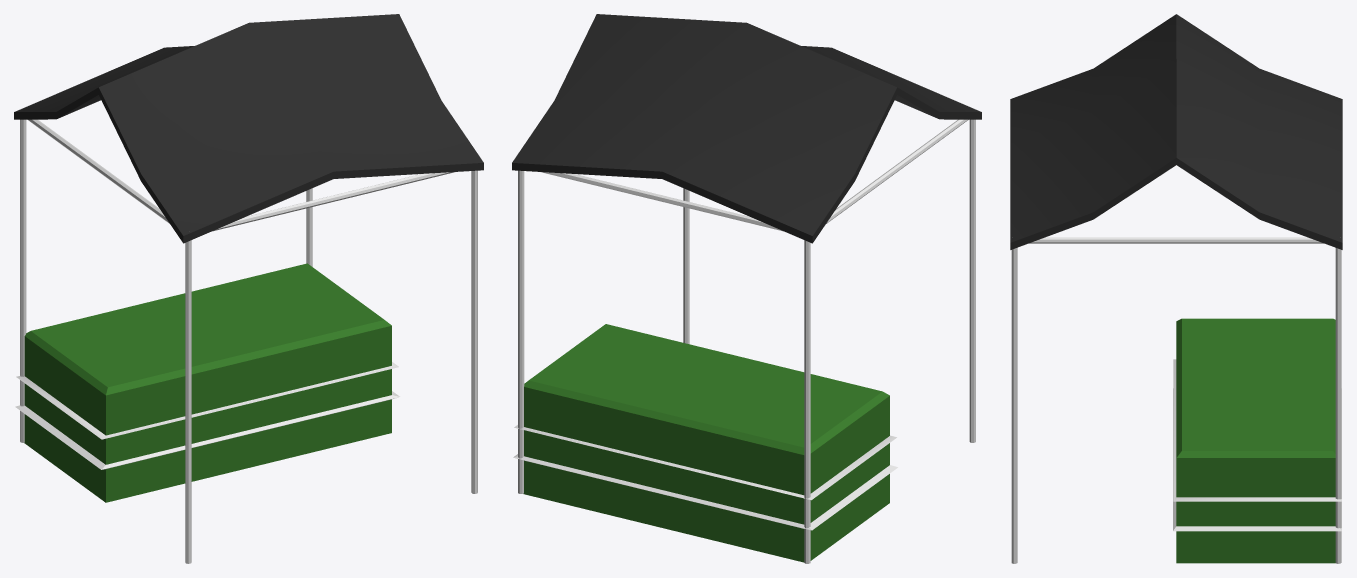
File: Stall.fbx
3 renders of one model, left to right at view 1: azimuth 30°, elevation 25°; view 2: azimuth 150°, elevation 25°; view 3: azimuth 270°, elevation 25°, orthographic. The views are drawn at different scales.
Parts seen in each view (by area): view 1: Cube.001; view 2: Cube.001; view 3: Cube.001.
Boxes of the visible parts, box(x1,y1,x2,y2) form: Cube.001: box(14, 14, 483, 563); Cube.001: box(512, 14, 981, 563); Cube.001: box(1010, 14, 1342, 563).
Size of the model in its own units: 840 by 1189 by 820.
